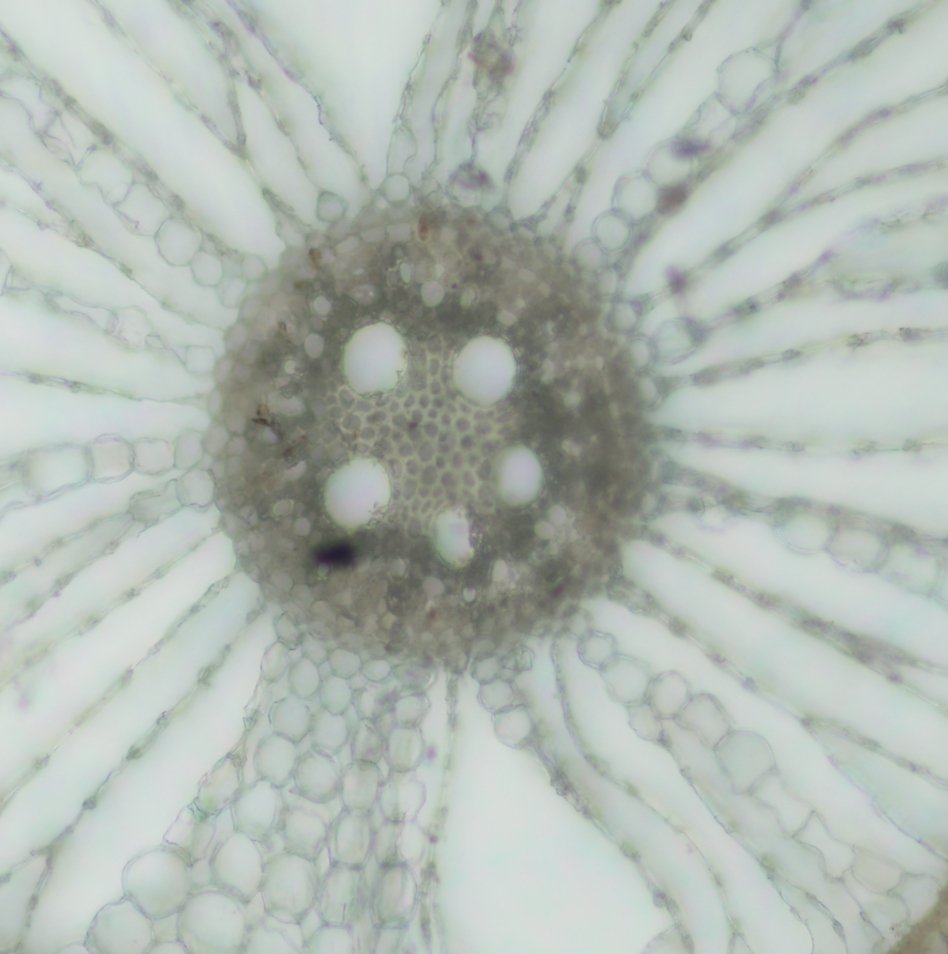lm: (320, 454, 391, 533), (341, 320, 406, 398), (449, 333, 517, 404), (488, 443, 544, 508), (429, 503, 474, 567)
